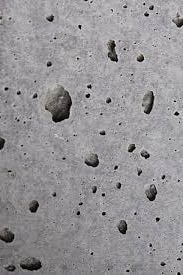Spalling: (1, 1, 183, 275)
